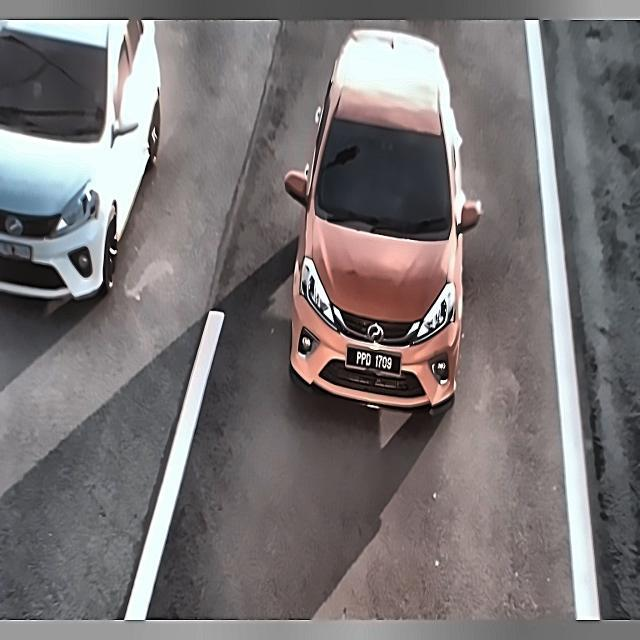car: (344, 341, 408, 382), (1, 232, 38, 267)
